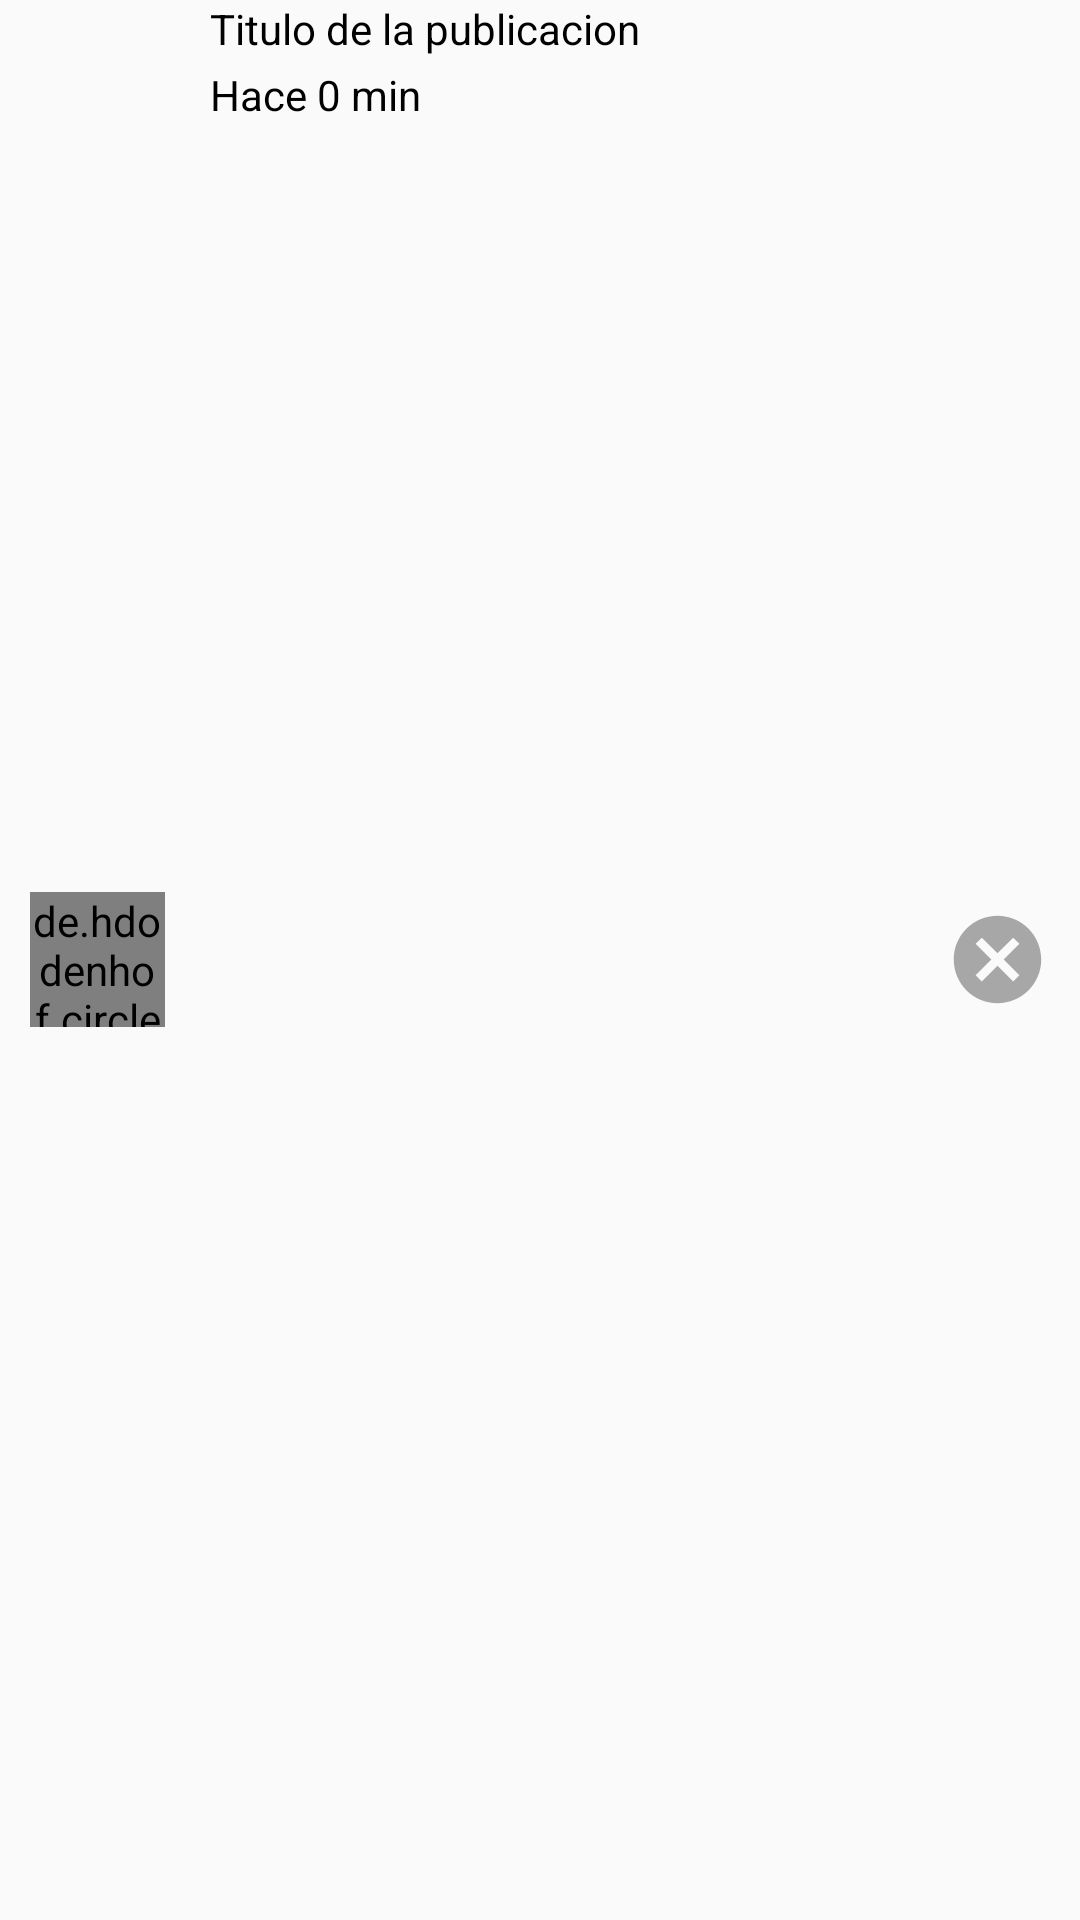

Named icons in this screenshot (1080x1920) and their centers, point (x, y):
cancel: point (997, 959)
